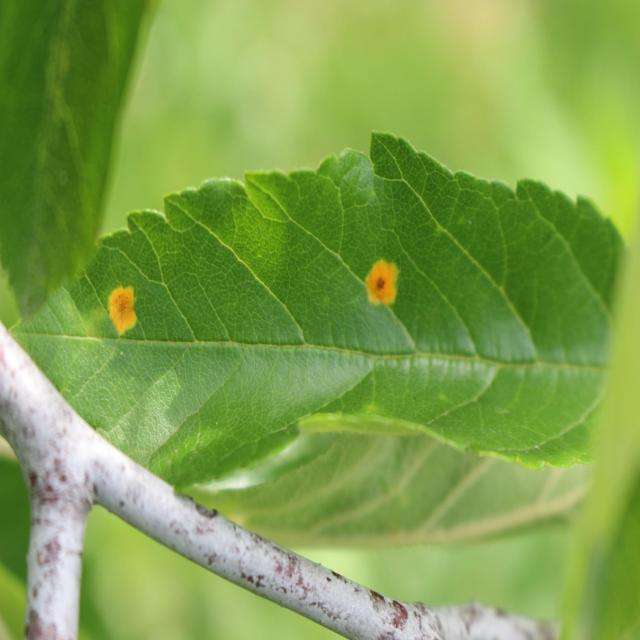Rust: (359, 230, 413, 338), (98, 274, 143, 356)
